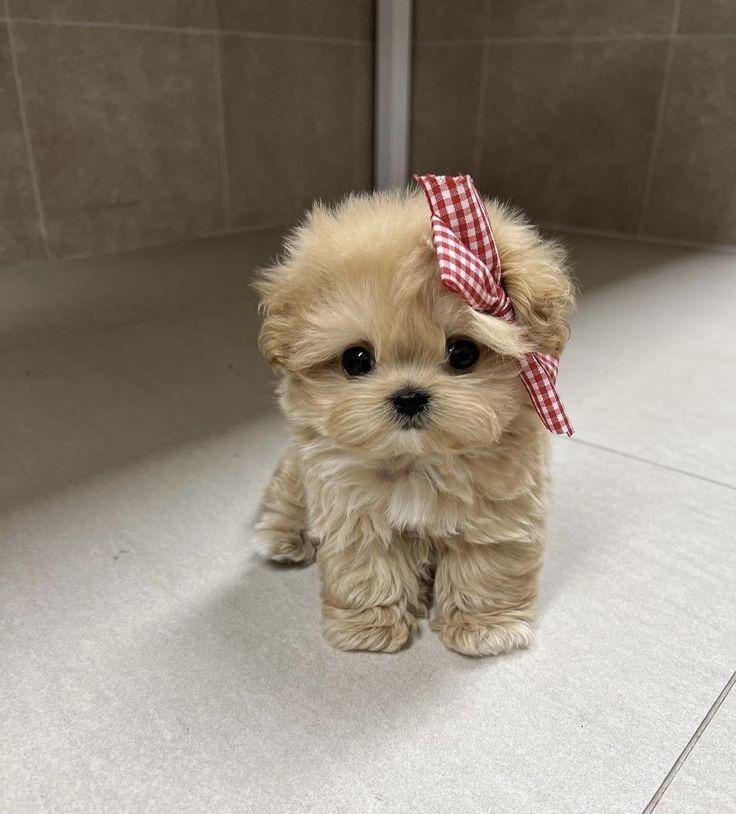puppy-dog: (247, 174, 584, 661)
